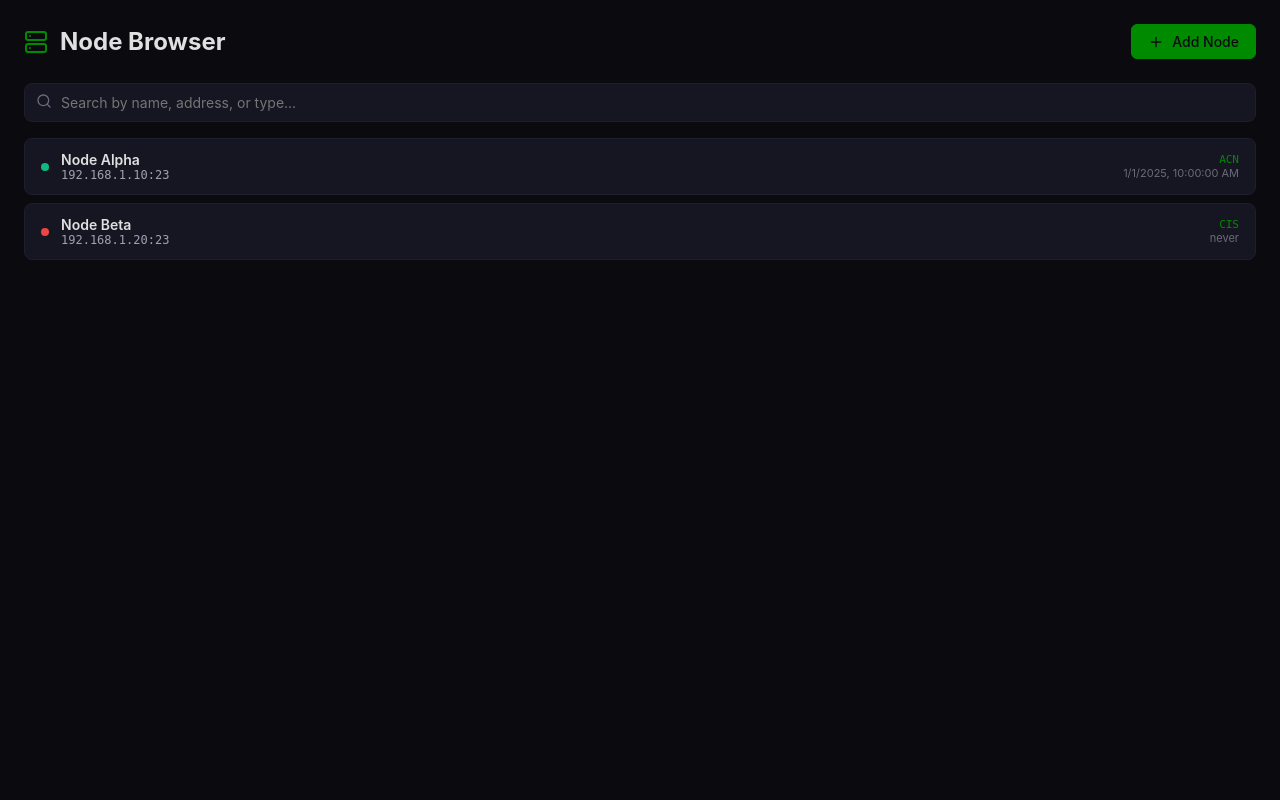
Test: NodeBrowser › can close the connect form modal with the X button
Expected: the text "Node Alpha" is shown, [61,151,140,168]
Click the button "Add Node" at [1194, 42], box [1131,24,1256,59]
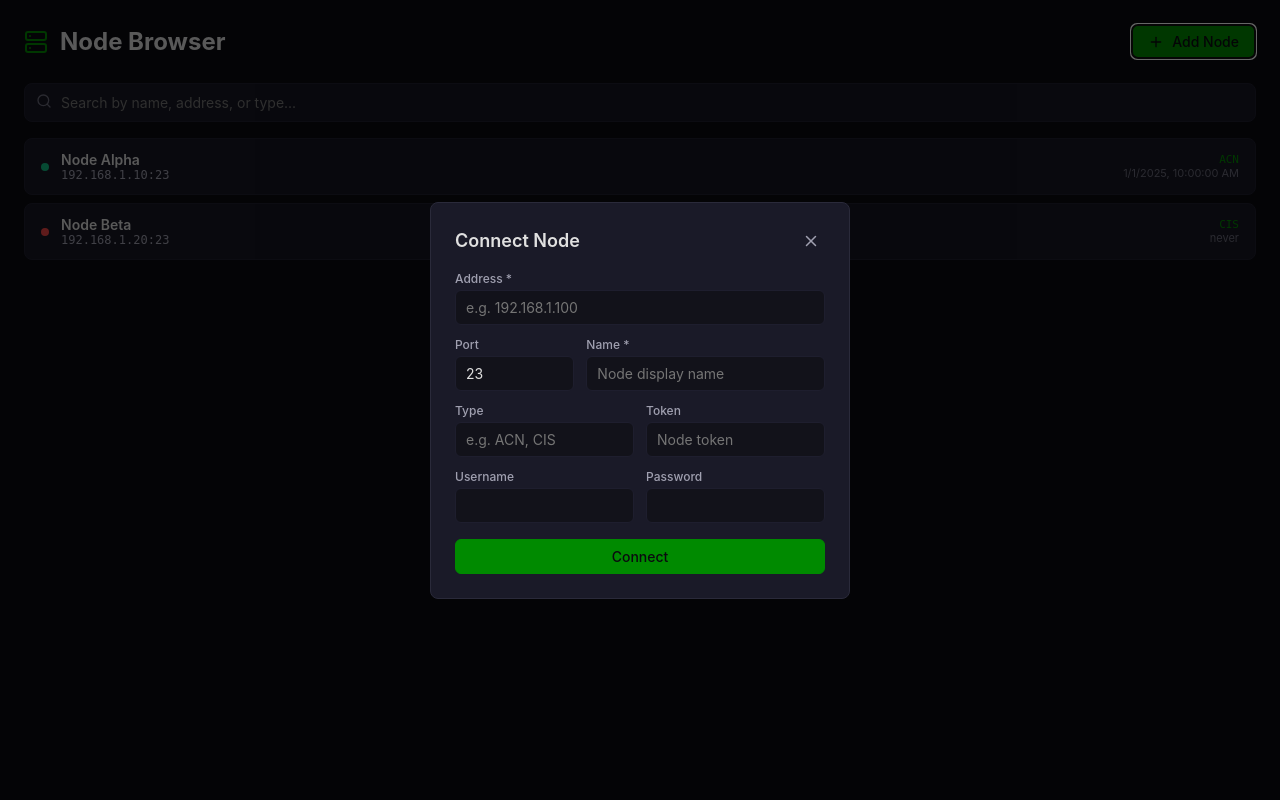
Expected: the heading "Connect Node" is shown, [455,230,580,251]
Expected: the 1st button is shown
Click the 1st button at [811, 240], box [797,226,825,254]
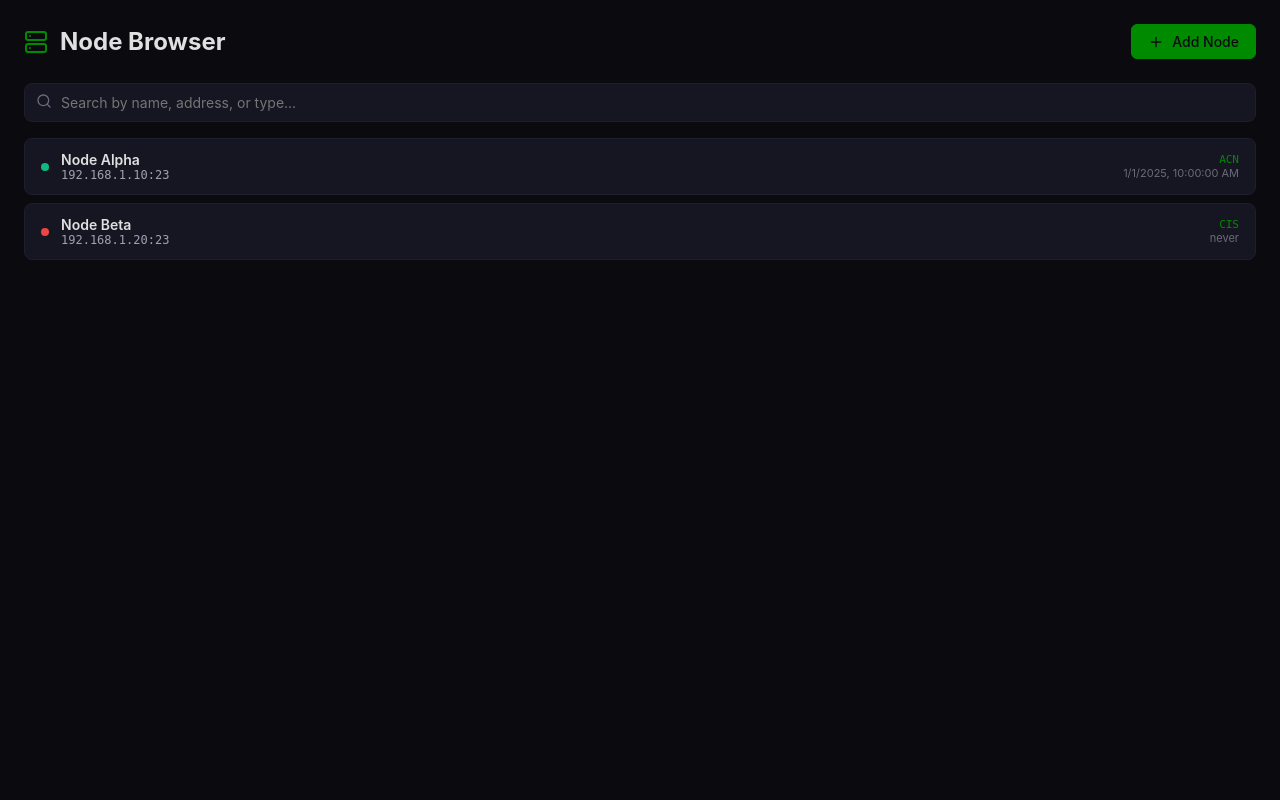
Expected: the heading "Connect Node" is gone
